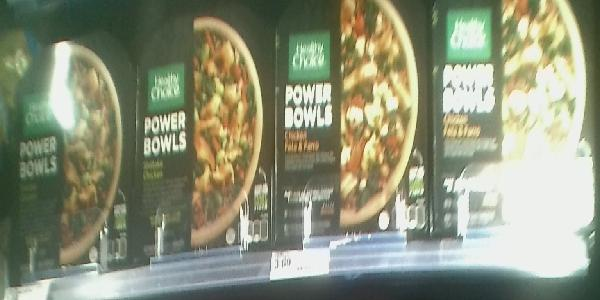pizza1: (272, 1, 431, 243), (431, 1, 593, 233), (1, 24, 135, 275), (139, 1, 271, 245)
